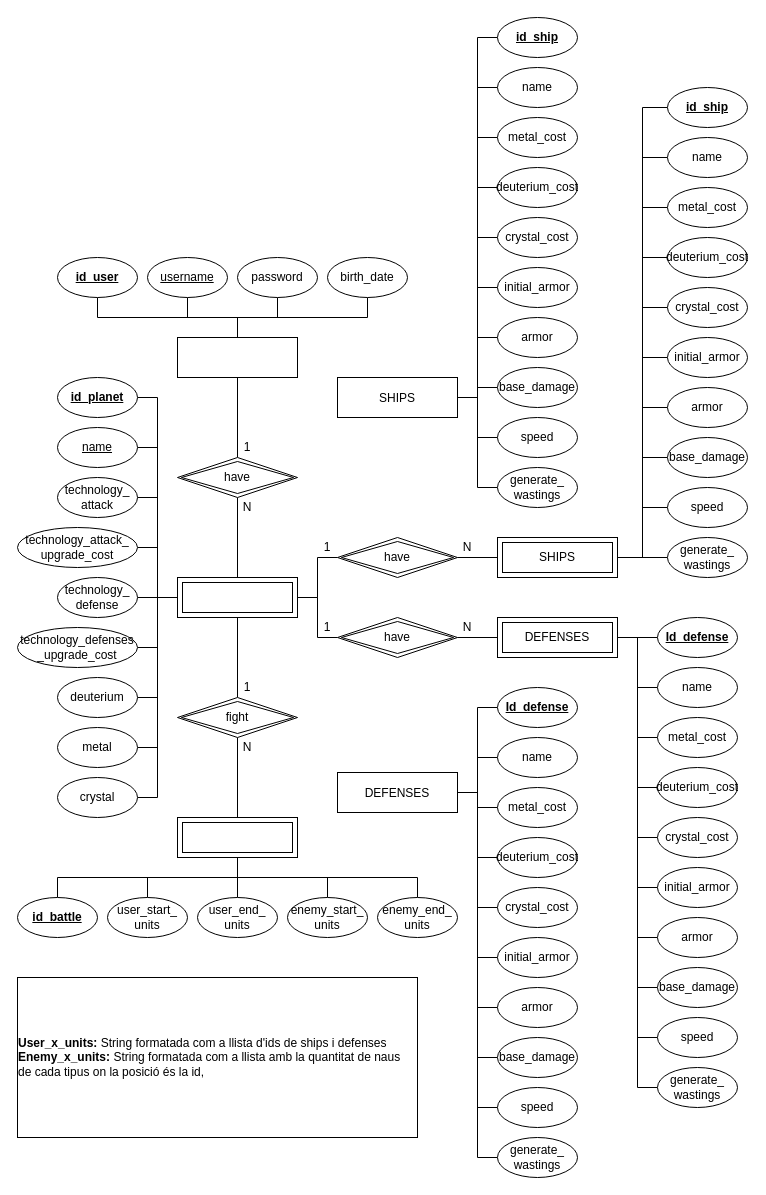
The diagram is 766 pixels wide and 1195 high, and some of its shapes have lost their labels. Each missing label, with the centre of its shape:
BATTLES: (237,837)
PLANETS: (237,597)
USERS: (237,357)
